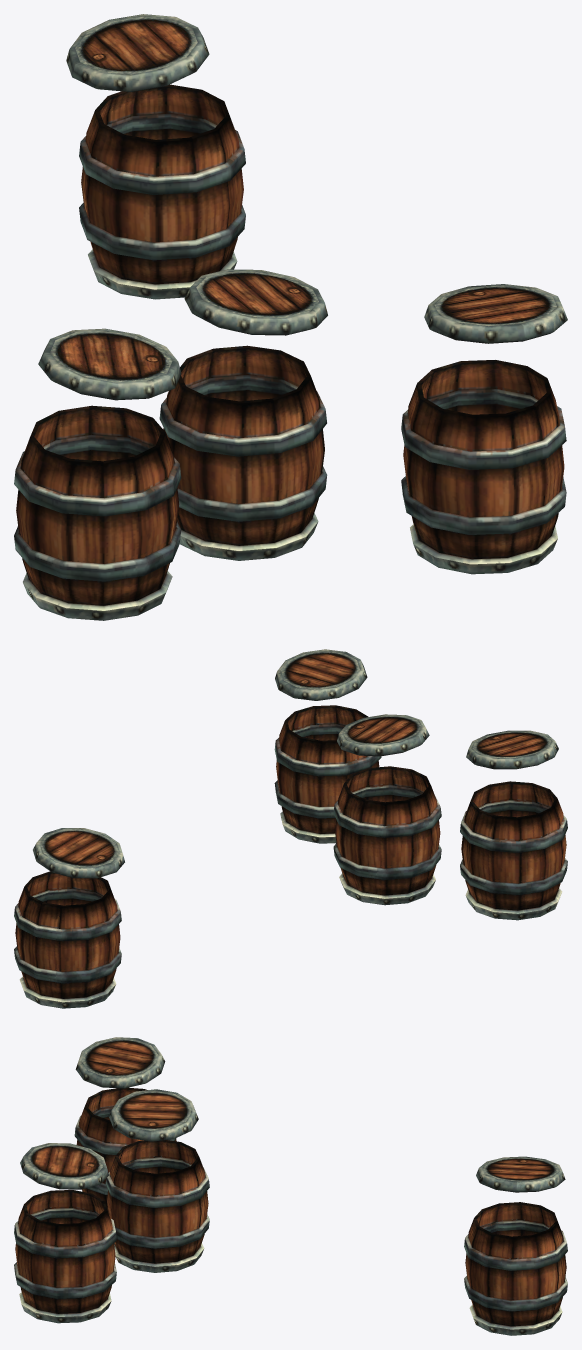
The model's file is CH7CIN6_ANIM_INST.fbx.
3 views of the same model, one above another, from view 1: azimuth 30°, elevation 25°; view 2: azimuth 150°, elevation 25°; view 3: azimuth 270°, elevation 25° (orthographic). The views are drawn at different scales.
Parts seen in each view (by area): view 1: CH7CIN6_ANIM_INST; view 2: CH7CIN6_ANIM_INST; view 3: CH7CIN6_ANIM_INST.
Boxes of the visible parts, x1,y1,x2,y2 form: CH7CIN6_ANIM_INST: (14,14,567,620); CH7CIN6_ANIM_INST: (14,649,567,1008); CH7CIN6_ANIM_INST: (14,1037,567,1335).
Size of the model in its own units: 28299 by 12562 by 41760.
2 materials, 2 textured.
